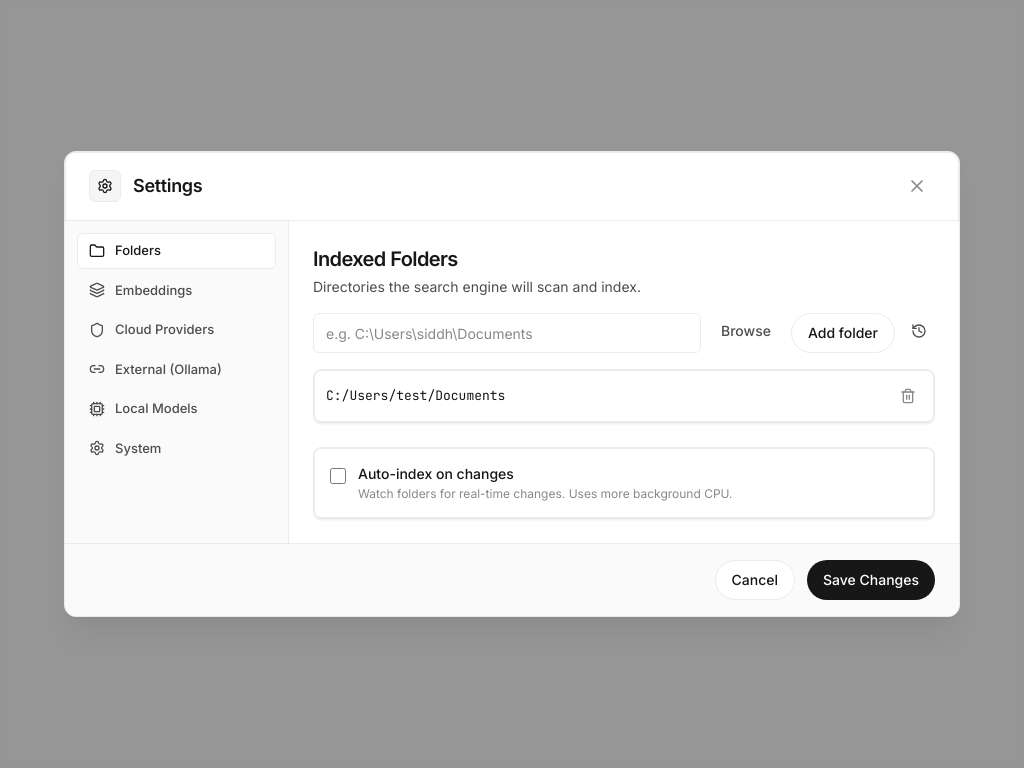
SettingsModal Component › shows error toast when save fails
Expected: the text "C:/Users/test/Documents" is shown, [326,386,505,406]
What coordinates should you click on to do the following:
click the button "Save Changes"
I would click on:
 (871, 580)
Its box is [807,560,935,600].
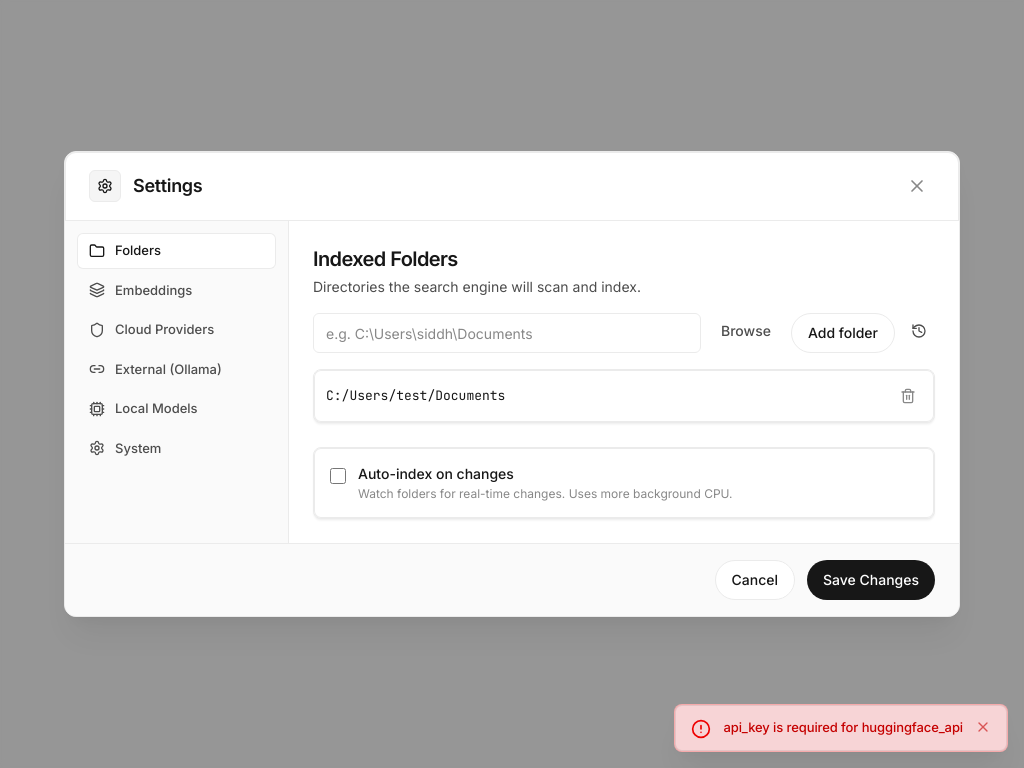
Now the text "api_key is required for huggingface_api" is shown, box [724,717,963,738]
